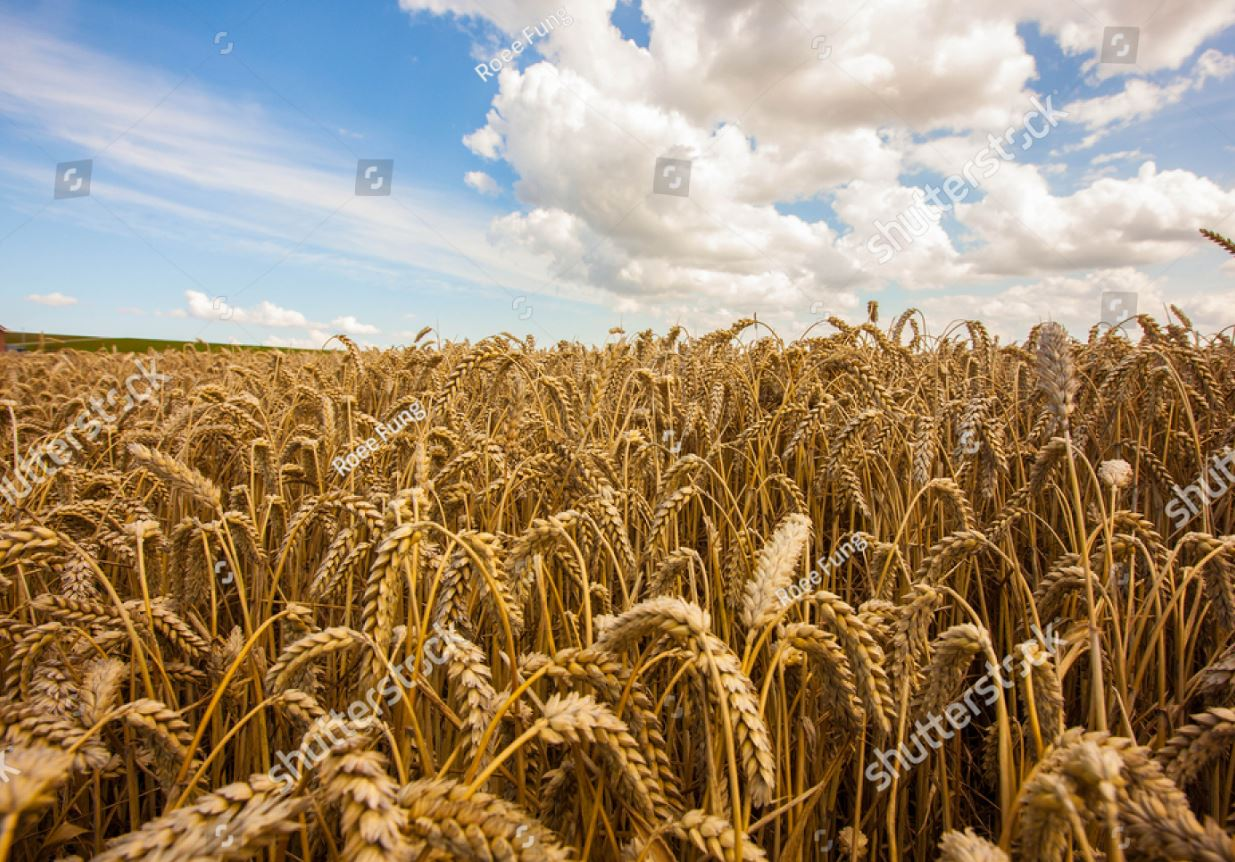Wheat: (175, 405, 1194, 835)
